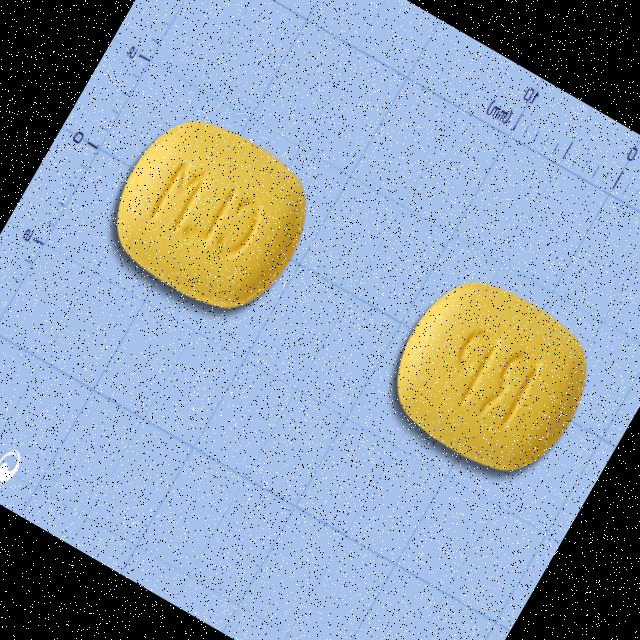Rpclari Tab: (90, 95, 334, 333), (371, 256, 612, 492)
